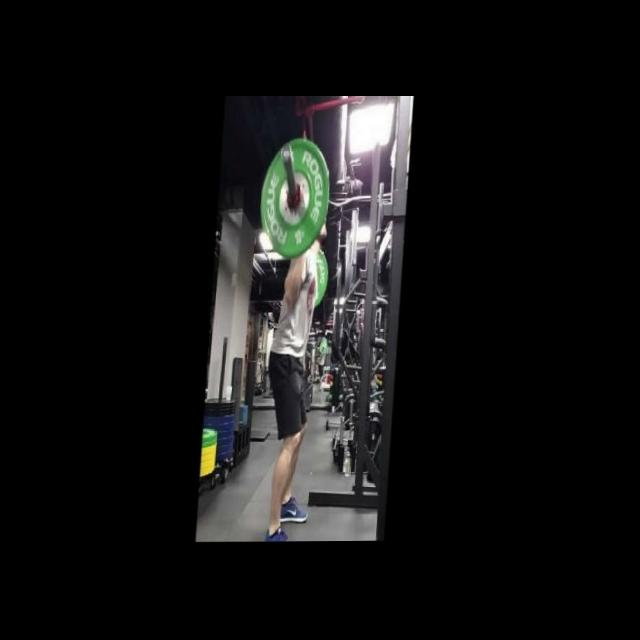barbell: (247, 135, 336, 260)
